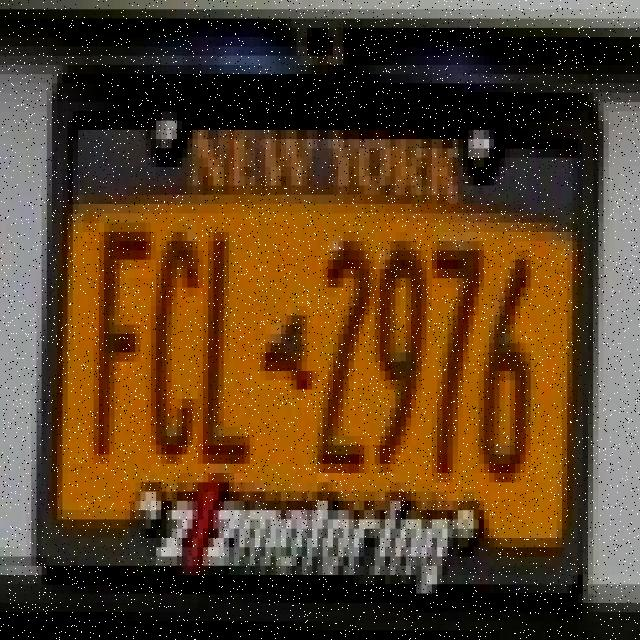licenseplate: (42, 55, 596, 616)
